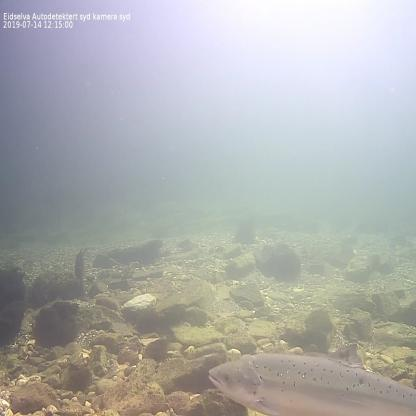salmon: (206, 339, 416, 416)
